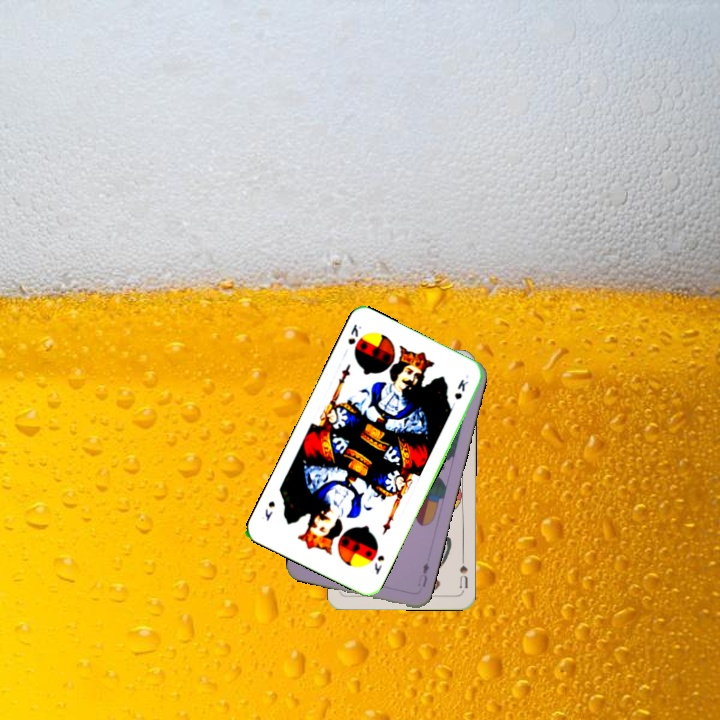EU: (414, 558, 432, 590)
SK: (344, 320, 364, 347), (370, 551, 387, 577)
SU: (456, 553, 470, 590)
